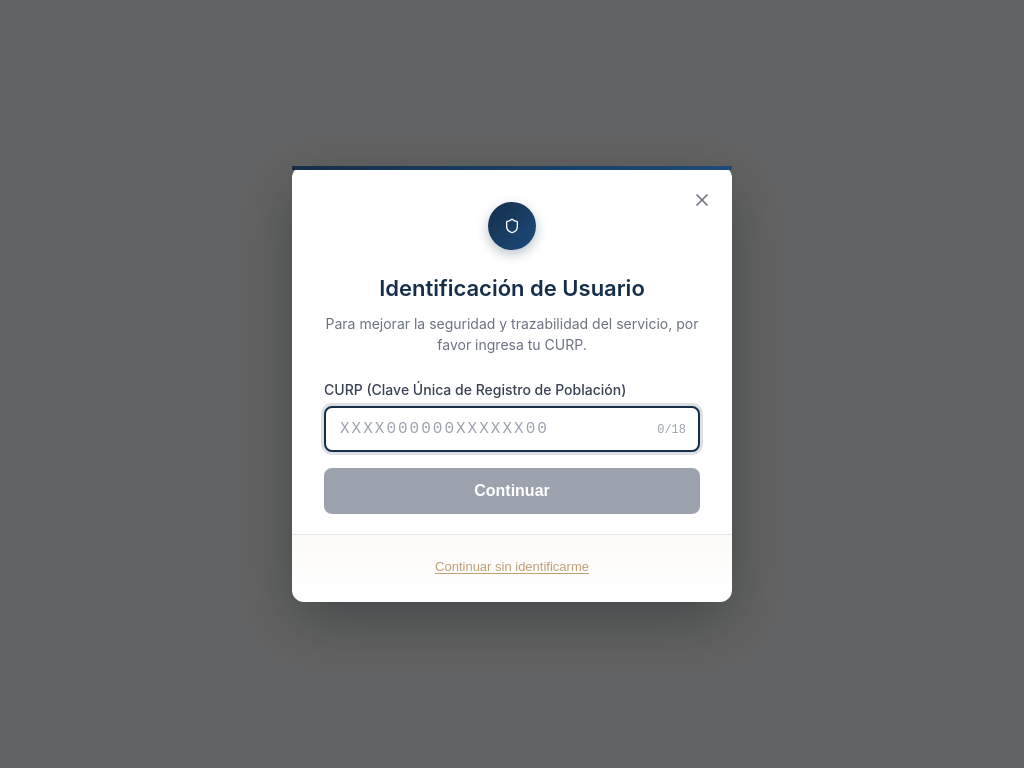
Test: CurpModal › should show error for invalid CURP format
The width and height of the screenshot is (1024, 768).
Enter a CURP with correct length (18) but wrong format (invalid gender marker X)
Type "GARC850101XDFRRL09" into the field with placeholder "XXXX000000XXXXXX00". click: (512, 429)
box: [324,406,700,452]
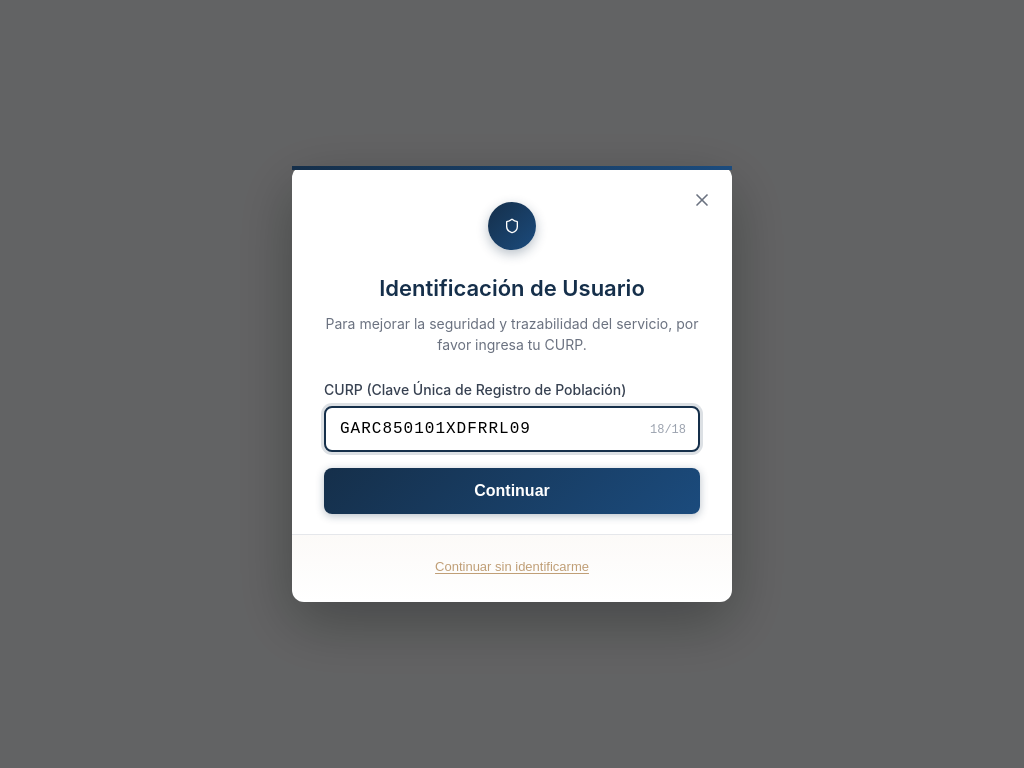
Expected: the button "Continuar" is enabled
Click the button "Continuar". click: (512, 491)
box: [324,468,700,514]
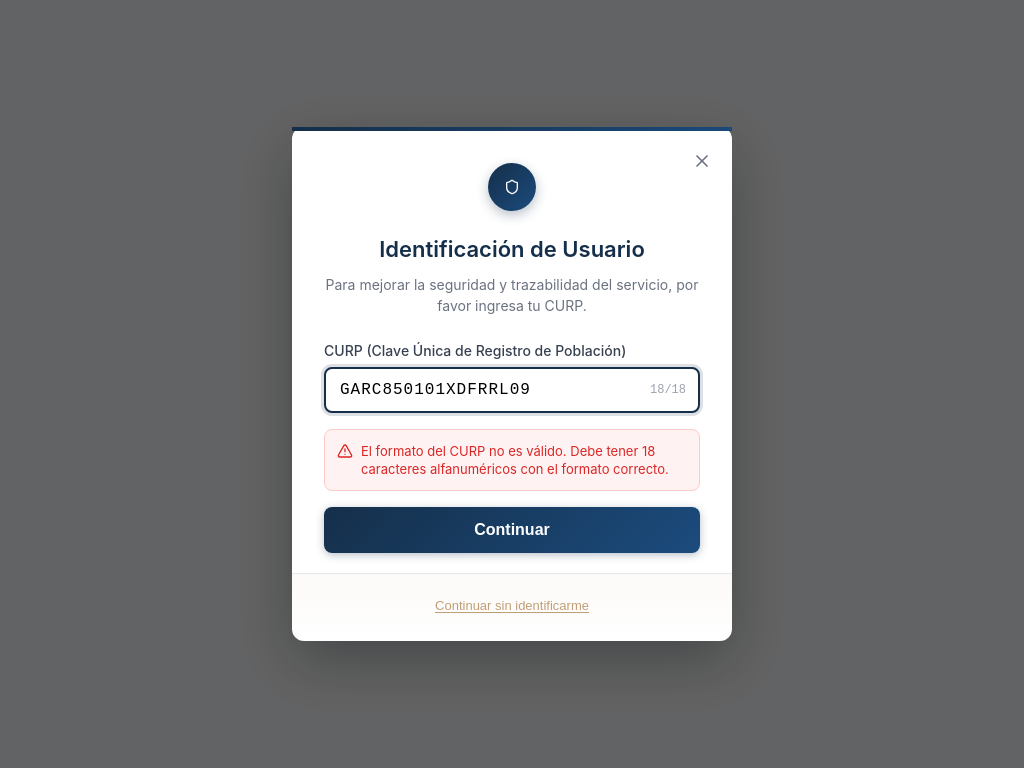
Expected: the text "El formato del CURP no es válido" is shown, [361,443,669,477]
